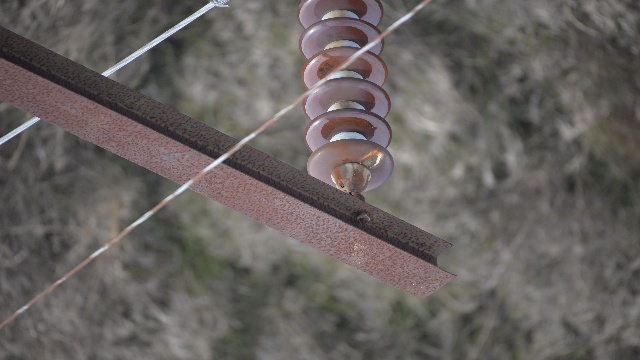insulator_unspecified: (298, 0, 395, 191)
pollution_flashover_local: (357, 147, 385, 171)
